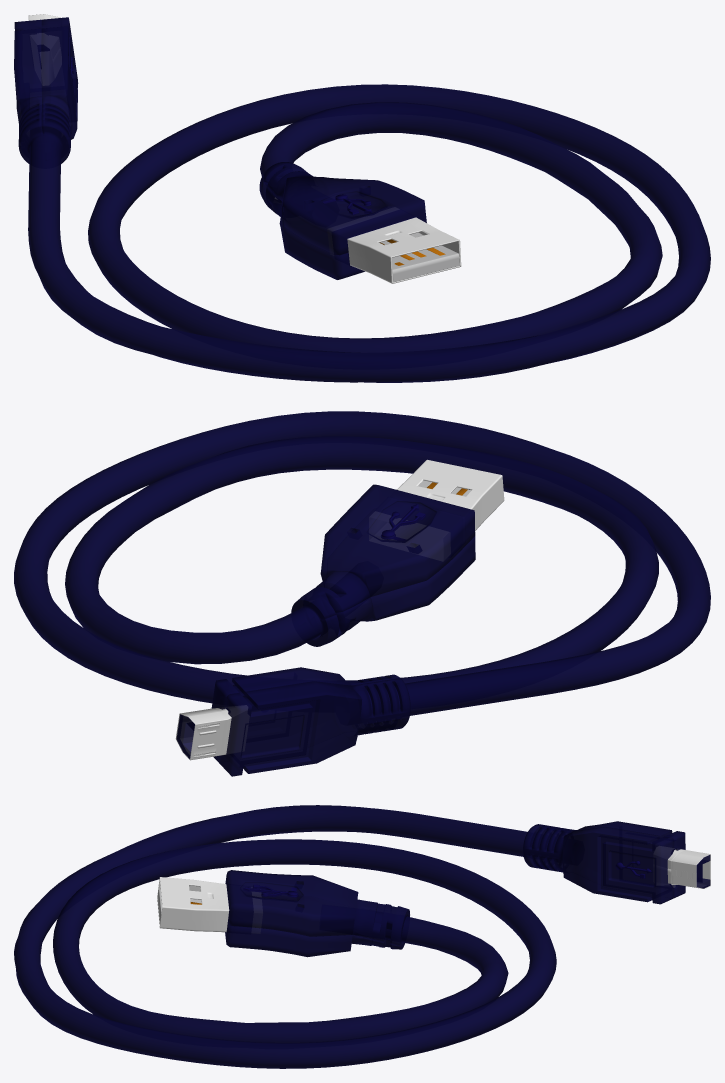
Rendered from 2. USB CABLE.gltf.
3 renders of one model, top to bottom at view 1: azimuth 30°, elevation 25°; view 2: azimuth 150°, elevation 25°; view 3: azimuth 270°, elevation 25°, orthographic. The views are drawn at different scales.
Parts seen in each view (by area): view 1: USB cable; view 2: USB cable; view 3: USB cable.
Boxes of the visible parts, <box> form: USB cable: <box>14,14,710,382</box>; USB cable: <box>14,411,710,776</box>; USB cable: <box>14,805,710,1068</box>.
Size of the model in its own units: 0.1453 by 0.0225 by 0.1763.
